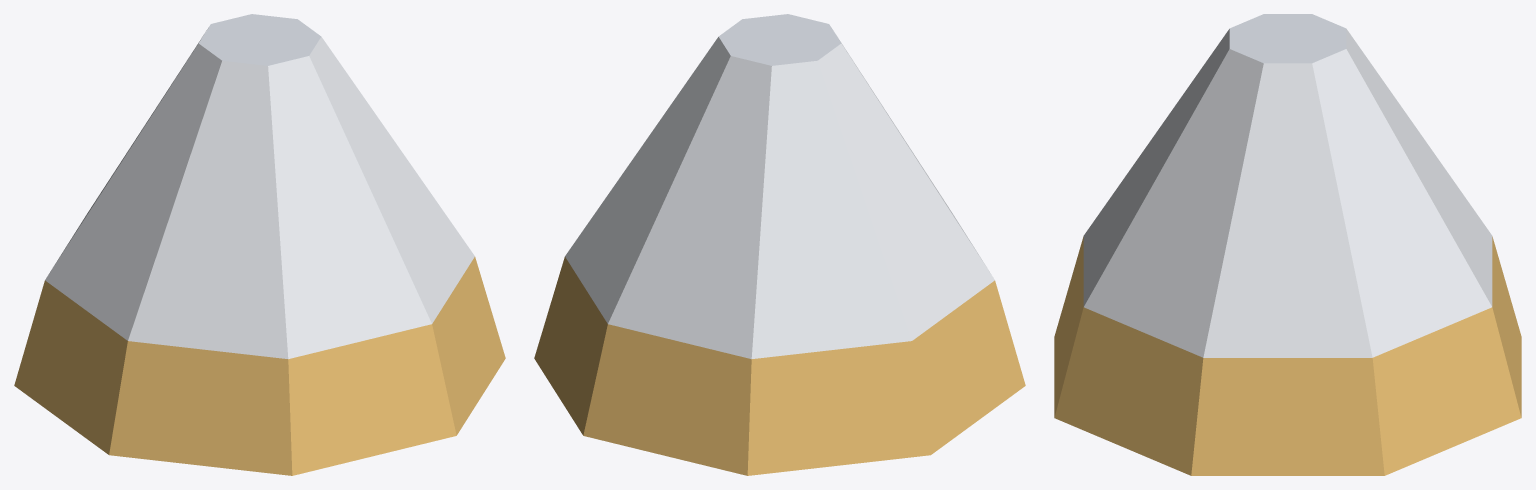
File: rocket_topA.glb
3 renders of one model, left to right at view 1: azimuth 30°, elevation 25°; view 2: azimuth 150°, elevation 25°; view 3: azimuth 270°, elevation 25°, orthographic.
Parts seen in each view (by area): view 1: rocket_topA; view 2: rocket_topA; view 3: rocket_topA.
Part boxes in pixels (x1,y1,x2,y2): rocket_topA: (14,14,505,475); rocket_topA: (534,14,1025,475); rocket_topA: (1054,14,1521,475).
Size of the model in its own units: 1 by 0.8 by 1.
